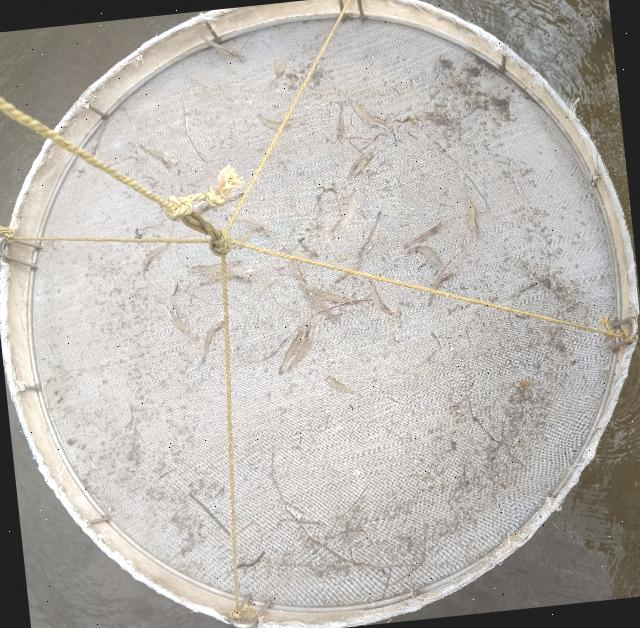shrimp: (200, 33, 248, 63), (304, 286, 342, 323), (287, 321, 315, 371), (328, 187, 356, 236), (279, 327, 304, 374), (367, 277, 396, 317), (348, 96, 391, 122), (405, 220, 445, 247), (201, 320, 225, 364), (230, 213, 274, 236), (144, 237, 171, 273), (283, 247, 307, 286), (171, 303, 197, 339), (429, 273, 457, 306), (349, 144, 377, 176), (326, 374, 363, 398), (311, 286, 363, 303), (139, 144, 173, 170), (199, 269, 253, 284), (409, 246, 444, 267), (186, 260, 242, 273), (468, 198, 484, 238), (337, 100, 346, 138)
